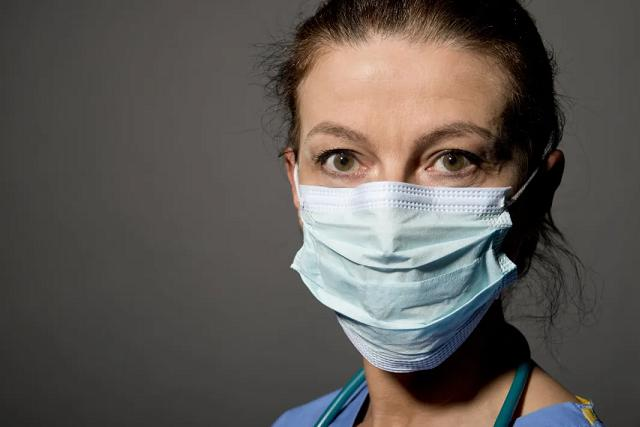mask: (295, 41, 525, 341)
